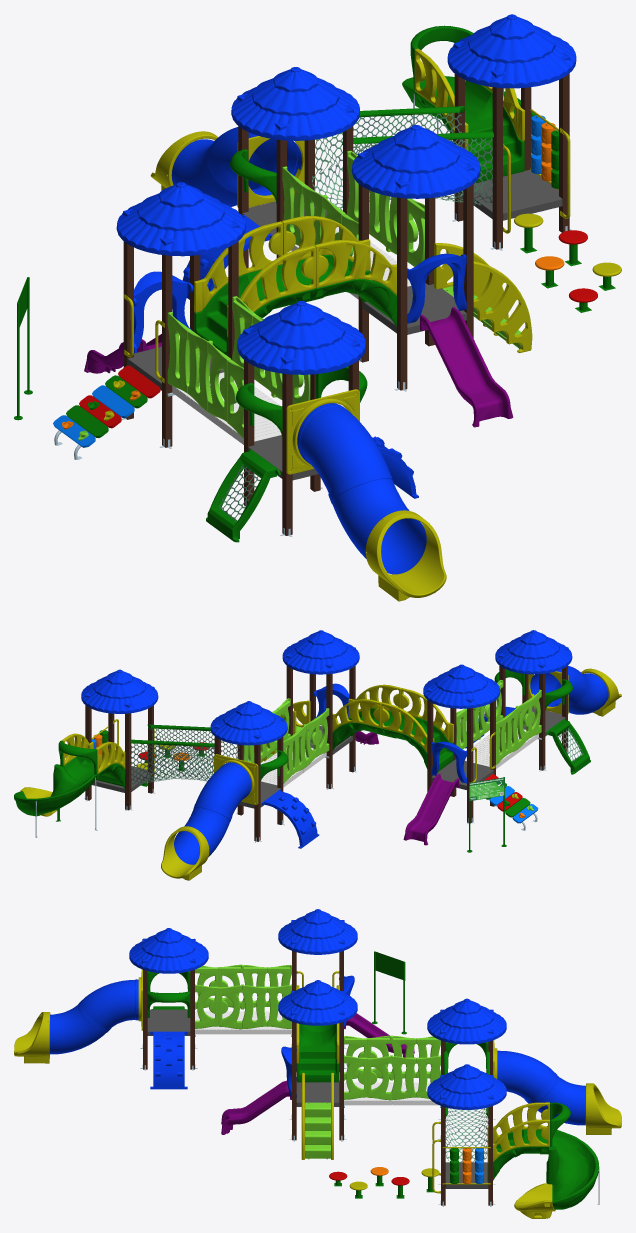
The picture shows the model from 3 angles, top to bottom: view 1: azimuth 30°, elevation 25°; view 2: azimuth 150°, elevation 25°; view 3: azimuth 270°, elevation 25°; orthographic projection. The views are drawn at different scales.
Visible parts, largest first — view 1: TOBOGA M4.001, object 10, TOLDO M2.002, TOLDO M2.003, TOLDO M2.004, TOLDO M2, TOLDO M2.001, TOBOGA M4, object 20, ESCORREGADOR M5, object 26, LATERAL M2 (+40 smaller); view 2: object 10, TOBOGA M4, object 26, TOBOGA M4.001, TOLDO M2.003, TOLDO M2.004, TOLDO M2.002, TOLDO M2.001, TOLDO M2, object 20, ESCORREGADOR M5.001, ESCALADA M3.001 (+37 smaller); view 3: object 10, TOBOGA M4.001, TOBOGA M4, object 20, TOLDO M2.004, TOLDO M2.001, TOLDO M2.003, TOLDO M2, TOLDO M2.002, ESCALADA M3, ESCORREGADOR M5, LATERAL M1.004 (+32 smaller).
Boxes of the visible parts, left/top/right/bottom form: TOBOGA M4.001: left=286, top=389, right=446, bottom=601; object 10: left=194, top=25, right=536, bottom=542; TOLDO M2.002: left=447, top=14, right=576, bottom=88; TOLDO M2.003: left=351, top=125, right=480, bottom=198; TOLDO M2.004: left=237, top=301, right=365, bottom=374; TOLDO M2: left=116, top=182, right=245, bottom=256; TOLDO M2.001: left=231, top=67, right=359, bottom=140; TOBOGA M4: left=150, top=127, right=304, bottom=207; object 20: left=124, top=93, right=621, bottom=383; ESCORREGADOR M5: left=420, top=307, right=513, bottom=427; object 26: left=219, top=113, right=492, bottom=521; LATERAL M2: left=473, top=261, right=532, bottom=352; object 10: left=14, top=679, right=590, bottom=816; TOBOGA M4: left=161, top=754, right=258, bottom=880; object 26: left=131, top=728, right=583, bottom=784; TOBOGA M4.001: left=528, top=665, right=621, bottom=716; TOLDO M2.003: left=282, top=630, right=359, bottom=674; TOLDO M2.004: left=495, top=630, right=572, bottom=674; TOLDO M2.002: left=81, top=669, right=158, bottom=713; TOLDO M2.001: left=210, top=701, right=287, bottom=745; TOLDO M2: left=423, top=664, right=500, bottom=708; object 20: left=20, top=719, right=495, bottom=837; ESCORREGADOR M5.001: left=403, top=773, right=459, bottom=845; ESCALADA M3.001: left=262, top=789, right=319, bottom=848; object 10: left=147, top=971, right=598, bottom=1209; TOBOGA M4.001: left=14, top=969, right=142, bottom=1063; TOBOGA M4: left=493, top=1040, right=621, bottom=1134; object 20: left=296, top=971, right=599, bottom=1218; TOLDO M2.004: left=129, top=928, right=208, bottom=973; TOLDO M2.001: left=427, top=998, right=506, bottom=1044; TOLDO M2.003: left=278, top=980, right=357, bottom=1025; TOLDO M2: left=278, top=909, right=357, bottom=954; TOLDO M2.002: left=427, top=1064, right=506, bottom=1109; ESCALADA M3: left=150, top=1031, right=187, bottom=1089; ESCORREGADOR M5: left=221, top=1080, right=291, bottom=1134; LATERAL M1.004: left=487, top=1119, right=549, bottom=1162.
Size of the model in its own units: 9.18 by 3.15 by 11.67.
Materials: 27 (2 with a texture image).
